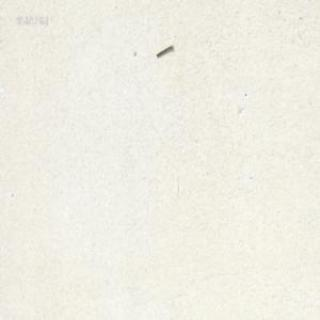Bolttrack_idkeyframe: (154, 42, 172, 56)
